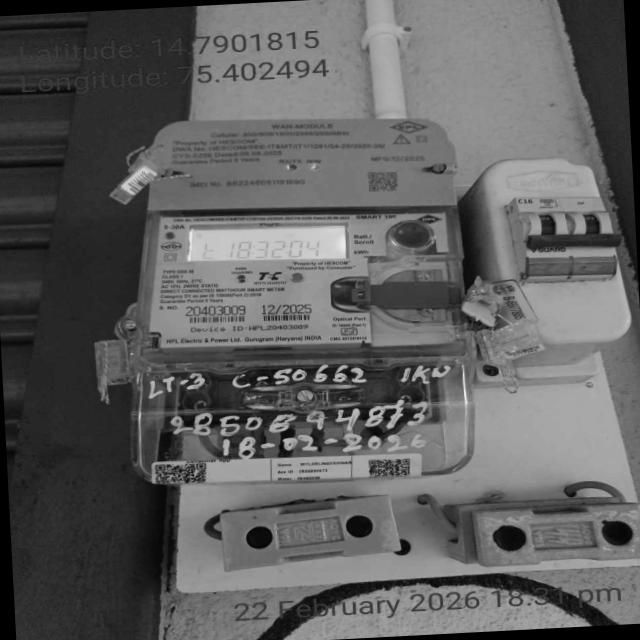meter: (114, 106, 468, 360)
